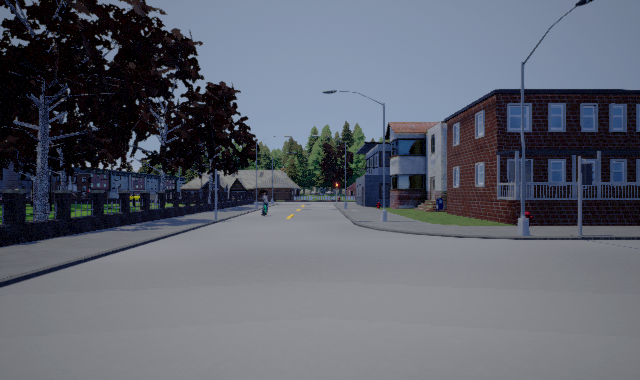bike: (258, 192, 274, 217)
